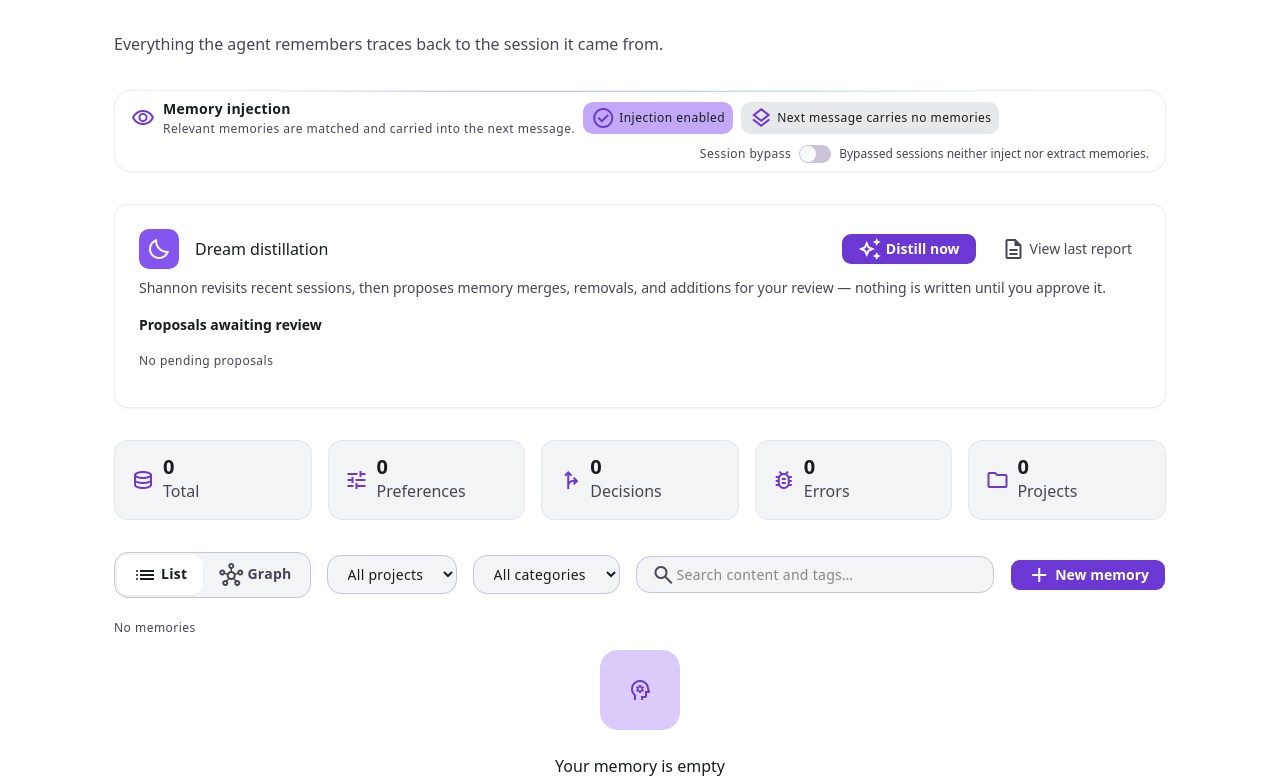
Scenario: MemoryPanel › opens editor when Create button clicked
Note: There are two create buttons in empty state — header + empty CTA.
Click the button "New memory".
click(1088, 575)  # box [1010, 559, 1166, 591]
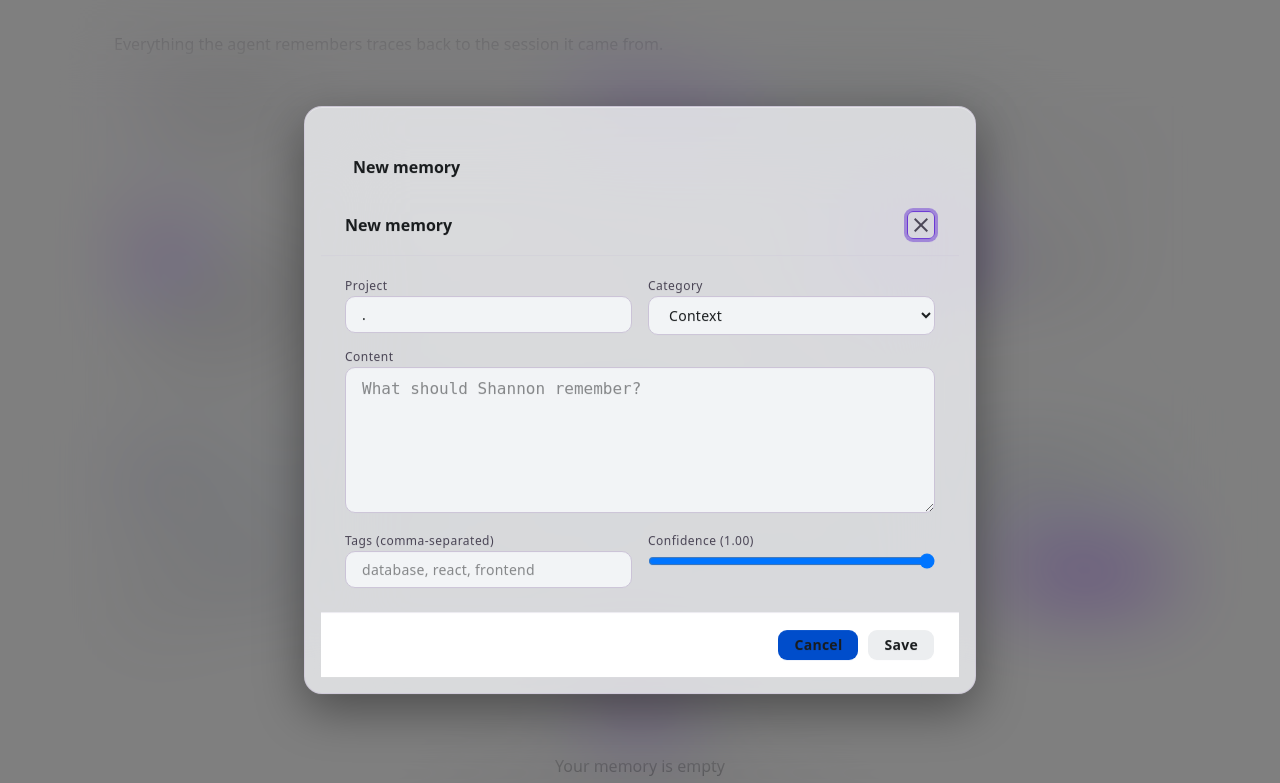
Expected: the button "Save" is shown, [868, 629, 935, 661]
